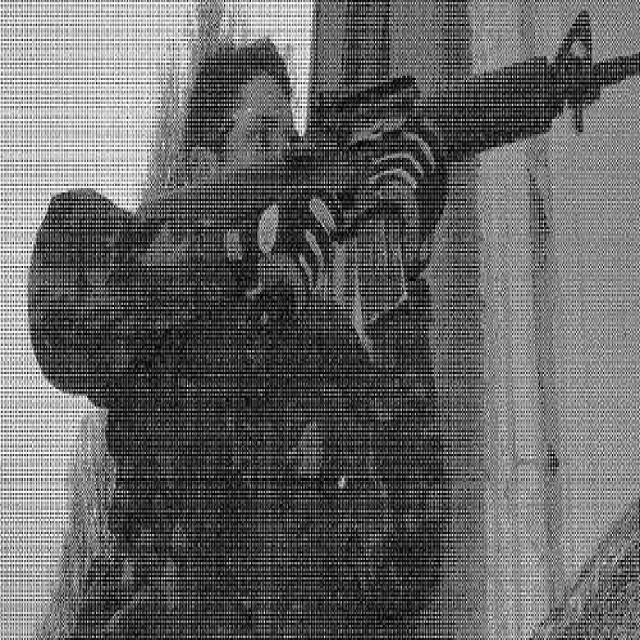Rifle: (115, 0, 640, 346)
